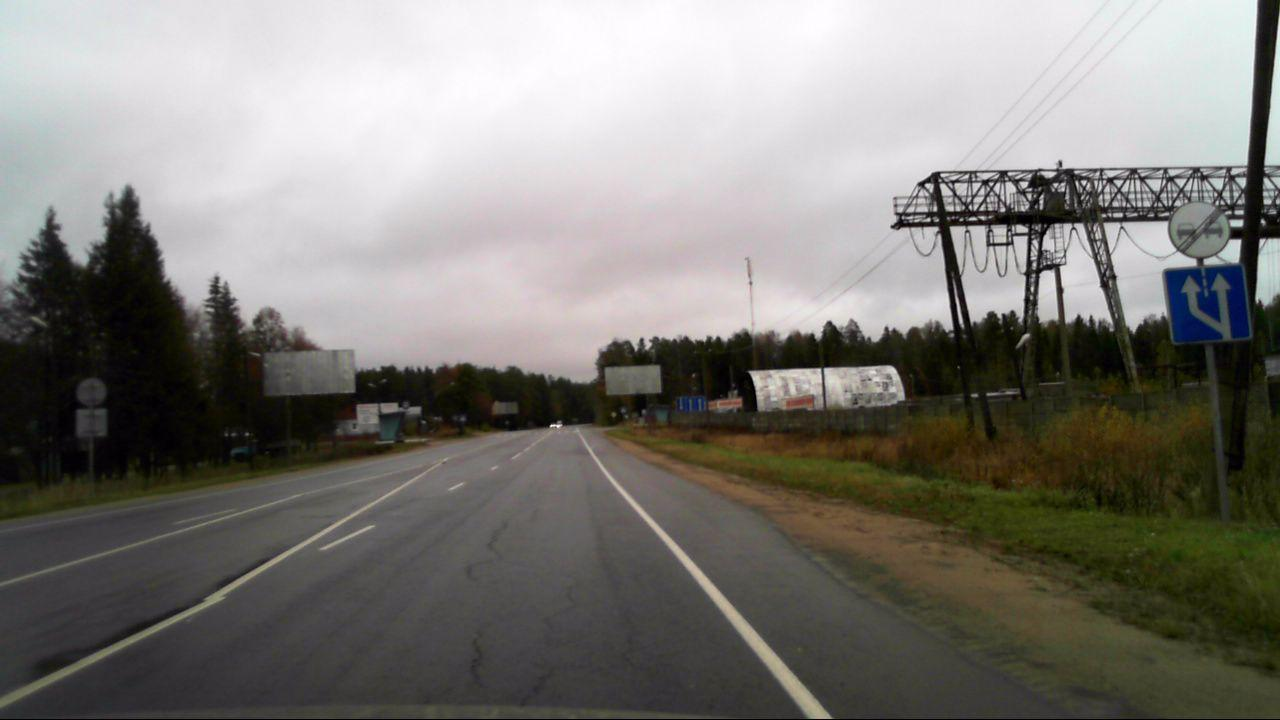3_21: (1163, 200, 1234, 257)
5_15_4: (1161, 262, 1254, 347)
5_15_7: (675, 397, 708, 414)
